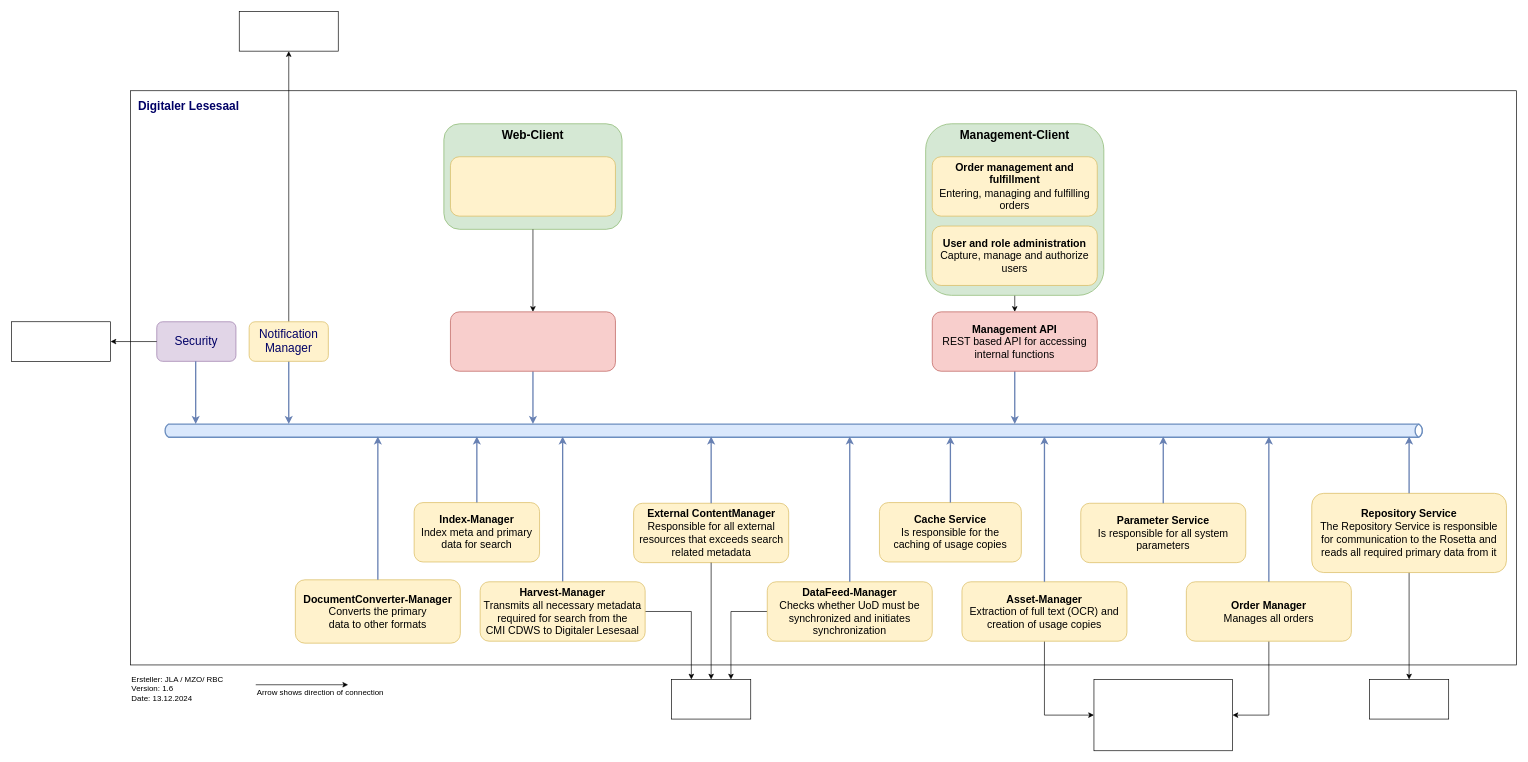
Image size: 1528x762. Some labels were removed from this diagram. Each missing label, with the centre of its shape:
CMI CDWS (Metadata): point 711,699
Communication (Mail-Server): point 288,31
Lesesaal-DB (SQL Server) Inquiries/orders, user data, statistics: point 1163,715
Message Bus: point 793,430
Public Web-API REST based API for accessing the system: point 532,341
Rosetta (Primary data): point 1409,699
Search Component Search functionality and user profile management: point 532,186
Switch eduID (Authentication): point 61,341
